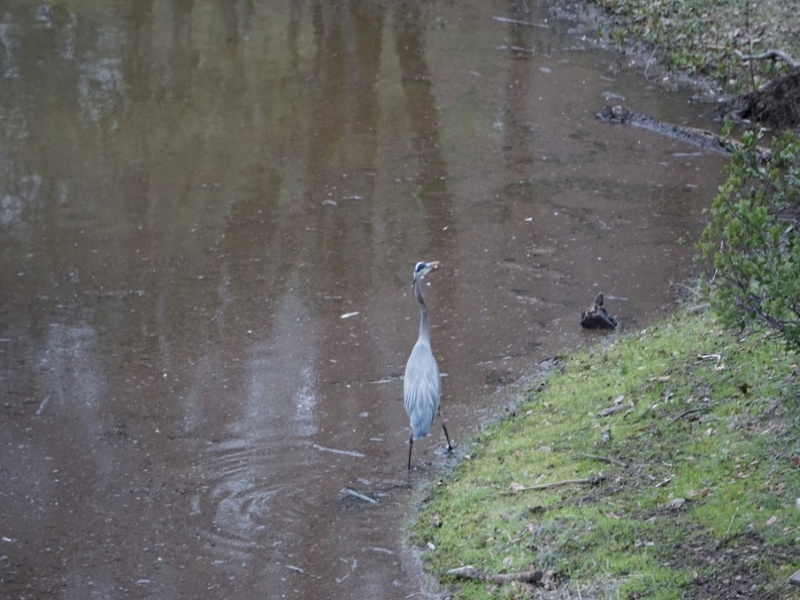heron: (398, 256, 455, 466)
